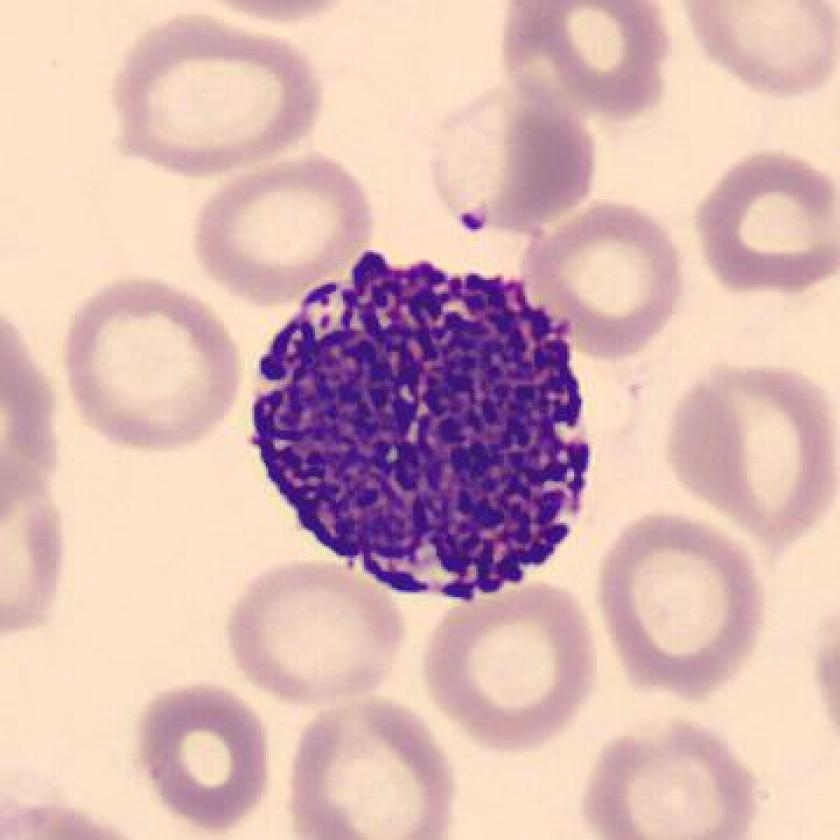basophil: (246, 247, 598, 608)
